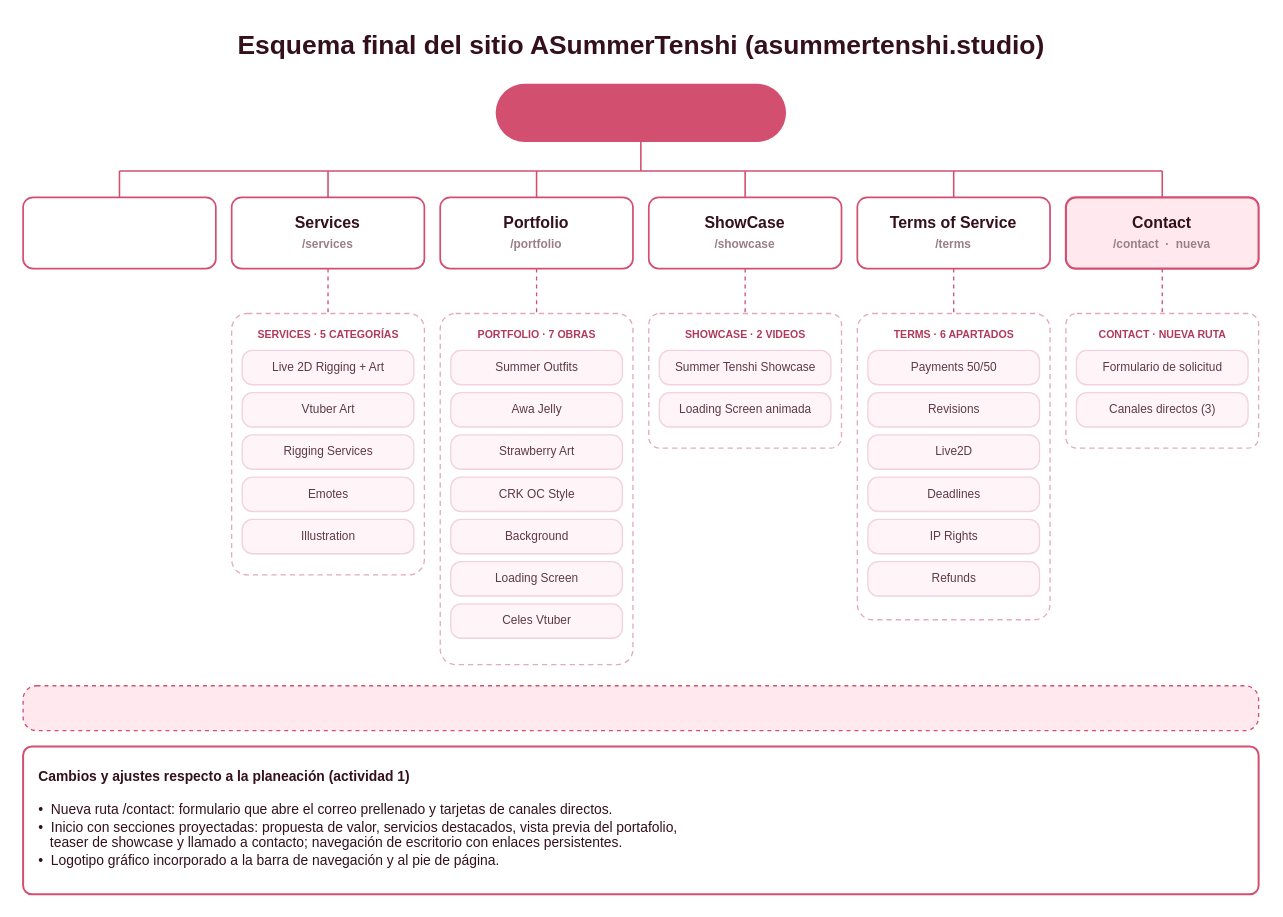
Some shapes in this 1283 by 917 pixel diagram are drawn without their labels. The shapes that lost their labels are listed below. From the top down, each one's centre as x and y in pixels, then its label:
At [640,112]: "Inicio (/)".
At [119,232]: "About Me /about".
At [640,707]: "Contacto global: pie de página con email, X y VGen en todas las rutas".
